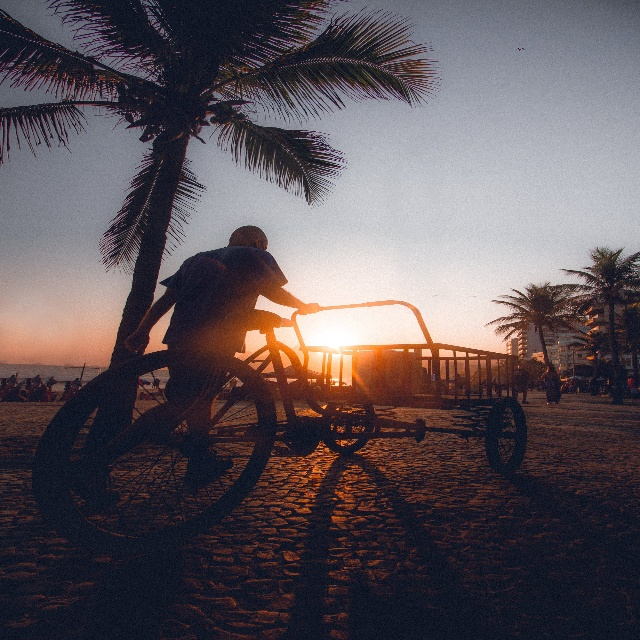Sin_guantes: (124, 329, 150, 355)
